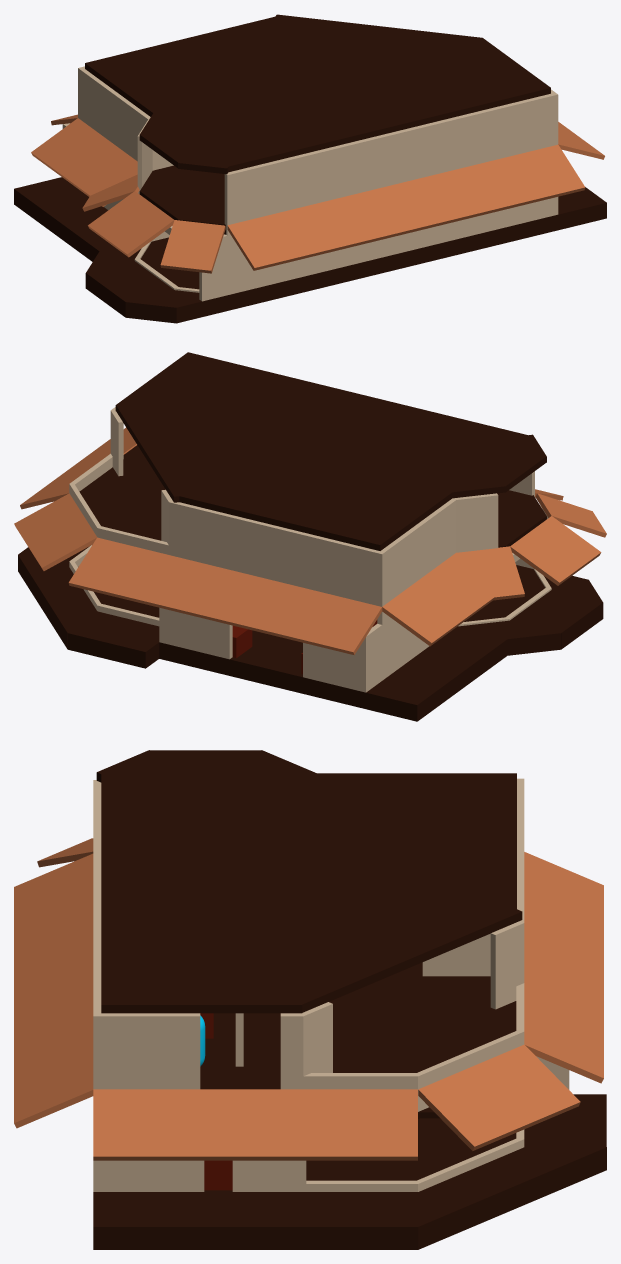
The model's file is Casa.fbx.
3 views of the same model, one above another, from view 1: azimuth 30°, elevation 25°; view 2: azimuth 150°, elevation 25°; view 3: azimuth 270°, elevation 25° (orthographic). The views are drawn at different scales.
Visible parts, largest first — view 1: Cube__55_, Pared__16_, Tejado__3_, Cube__58_, Cube__62_, Pared_8, Tejado__4_, Cube__38_, Pared__9_, Cube, Tejado__5_, Cube__16_ (+19 smaller); view 2: Cube__55_, Tejado__2_, Cube__58_, Cube__62_, Pared__19_, Cube__38_, Cube, Tejado__4_, Pared__9_, Cube__24_, Tejado__1_, Cube__26_ (+29 smaller); view 3: Cube__55_, Cube__62_, Cube__58_, Tejado, Tejado__3_, Cube__25_, Tejado__2_, Cube__26_, Tejado__1_, Pared__13_, Cube__32_, Cube__33_ (+25 smaller).
Part boxes in pixels (left/top/right/bottom): Cube__55_: left=176, top=38, right=550, bottom=172; Pared__16_: left=224, top=93, right=553, bottom=235; Tejado__3_: left=227, top=144, right=585, bottom=270; Cube__58_: left=85, top=15, right=334, bottom=116; Cube__62_: left=246, top=14, right=481, bottom=86; Pared_8: left=199, top=198, right=553, bottom=301; Tejado__4_: left=31, top=118, right=137, bottom=206; Cube__38_: left=14, top=177, right=117, bottom=261; Pared__9_: left=78, top=68, right=154, bottom=170; Cube: left=89, top=207, right=374, bottom=311; Tejado__5_: left=88, top=191, right=174, bottom=257; Cube__16_: left=375, top=214, right=558, bottom=274; Cube__55_: left=115, top=352, right=529, bottom=488; Tejado__2_: left=68, top=537, right=382, bottom=655; Cube__58_: left=174, top=436, right=458, bottom=550; Cube__62_: left=116, top=391, right=296, bottom=502; Pared__19_: left=200, top=508, right=382, bottom=605; Cube__38_: left=366, top=630, right=509, bottom=721; Cube: left=159, top=565, right=548, bottom=708; Tejado__4_: left=382, top=552, right=494, bottom=646; Pared__9_: left=377, top=498, right=457, bottom=618; Cube__24_: left=68, top=611, right=159, bottom=668; Tejado__1_: left=14, top=493, right=97, bottom=570; Cube__26_: left=18, top=553, right=109, bottom=649; Cube__55_: left=101, top=773, right=302, bottom=1013; Cube__62_: left=178, top=859, right=522, bottom=1012; Cube__58_: left=296, top=773, right=516, bottom=913; Tejado: left=93, top=1089, right=417, bottom=1160; Tejado__3_: left=14, top=853, right=93, bottom=1128; Cube__25_: left=93, top=1192, right=418, bottom=1249; Tejado__2_: left=524, top=852, right=603, bottom=1083; Cube__26_: left=384, top=1129, right=606, bottom=1249; Tejado__1_: left=418, top=1044, right=580, bottom=1150; Pared__13_: left=93, top=1013, right=200, bottom=1089; Cube__32_: left=329, top=965, right=416, bottom=1072; Cube__33_: left=411, top=983, right=516, bottom=1045.
Size of the model in its own units: 2467 by 721 by 1870.
